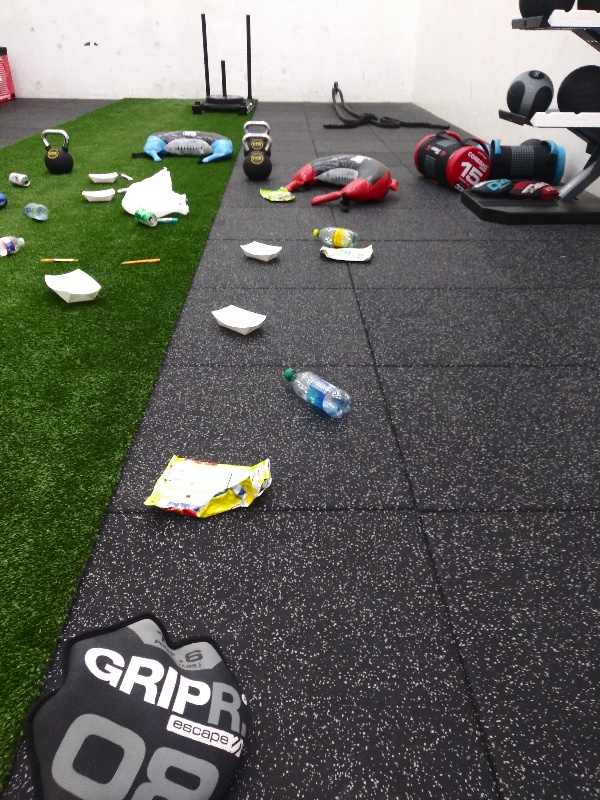bag: (139, 450, 283, 526), (317, 244, 379, 264), (254, 184, 301, 203)
bottle: (278, 365, 355, 422), (307, 225, 360, 249), (1, 234, 30, 261), (18, 200, 51, 223)
can: (129, 205, 158, 232), (2, 168, 31, 188)
plate: (34, 268, 105, 306), (206, 301, 271, 340), (236, 238, 286, 266), (76, 186, 119, 204), (81, 170, 120, 184)
